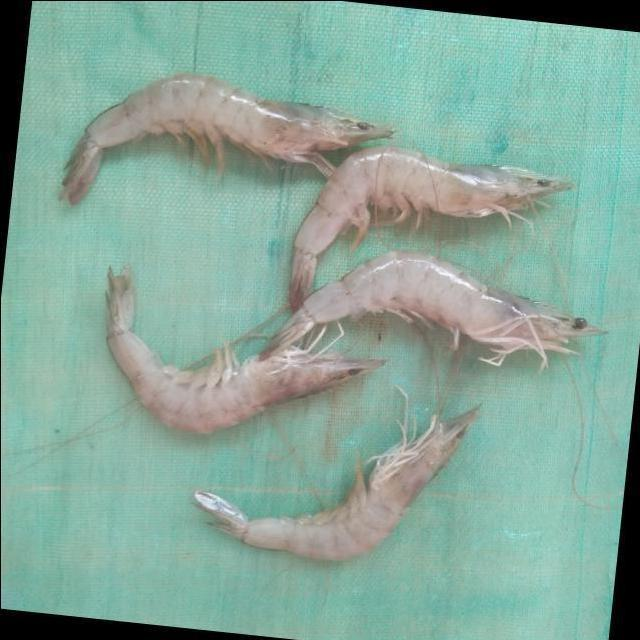shrimp: (288, 144, 573, 311), (105, 266, 384, 433), (59, 72, 392, 204), (194, 407, 479, 560), (258, 250, 605, 366)
